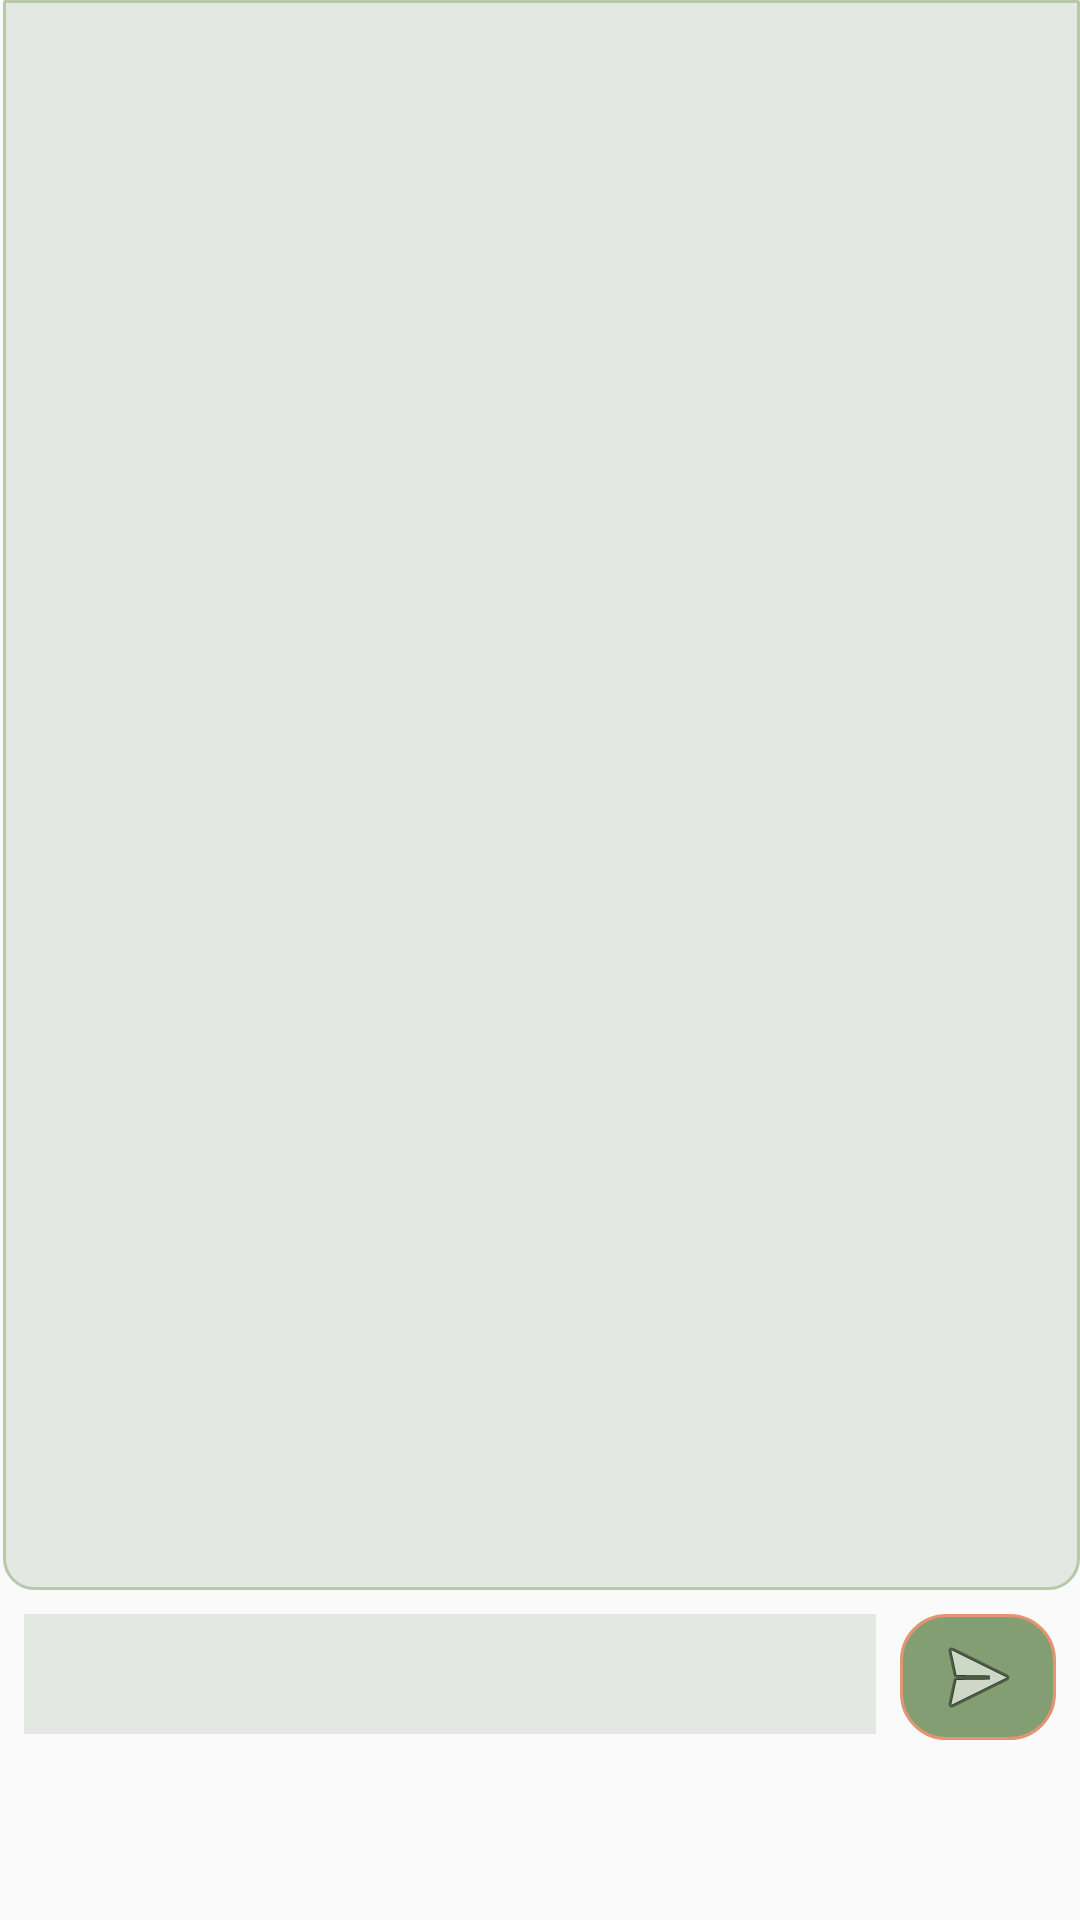

Icons on this 1080x1920 Android screen, each with its box as (x1, y1, x2, y2):
send: (900, 1614, 1056, 1740)
